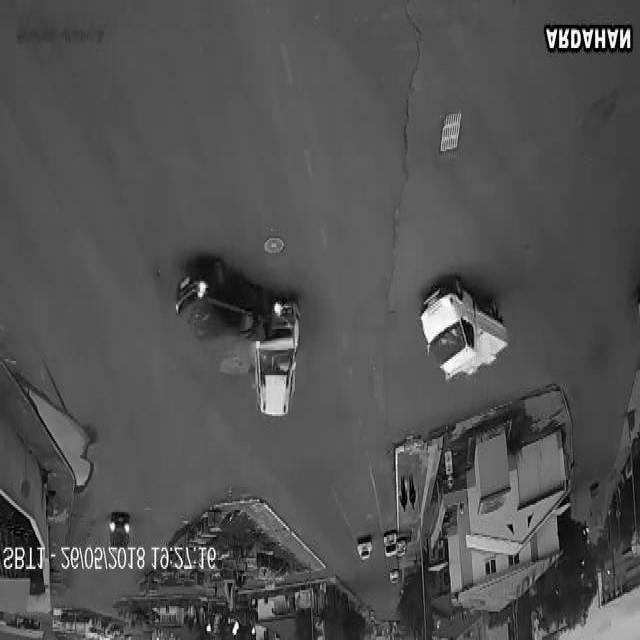moderate: (172, 255, 303, 421)
